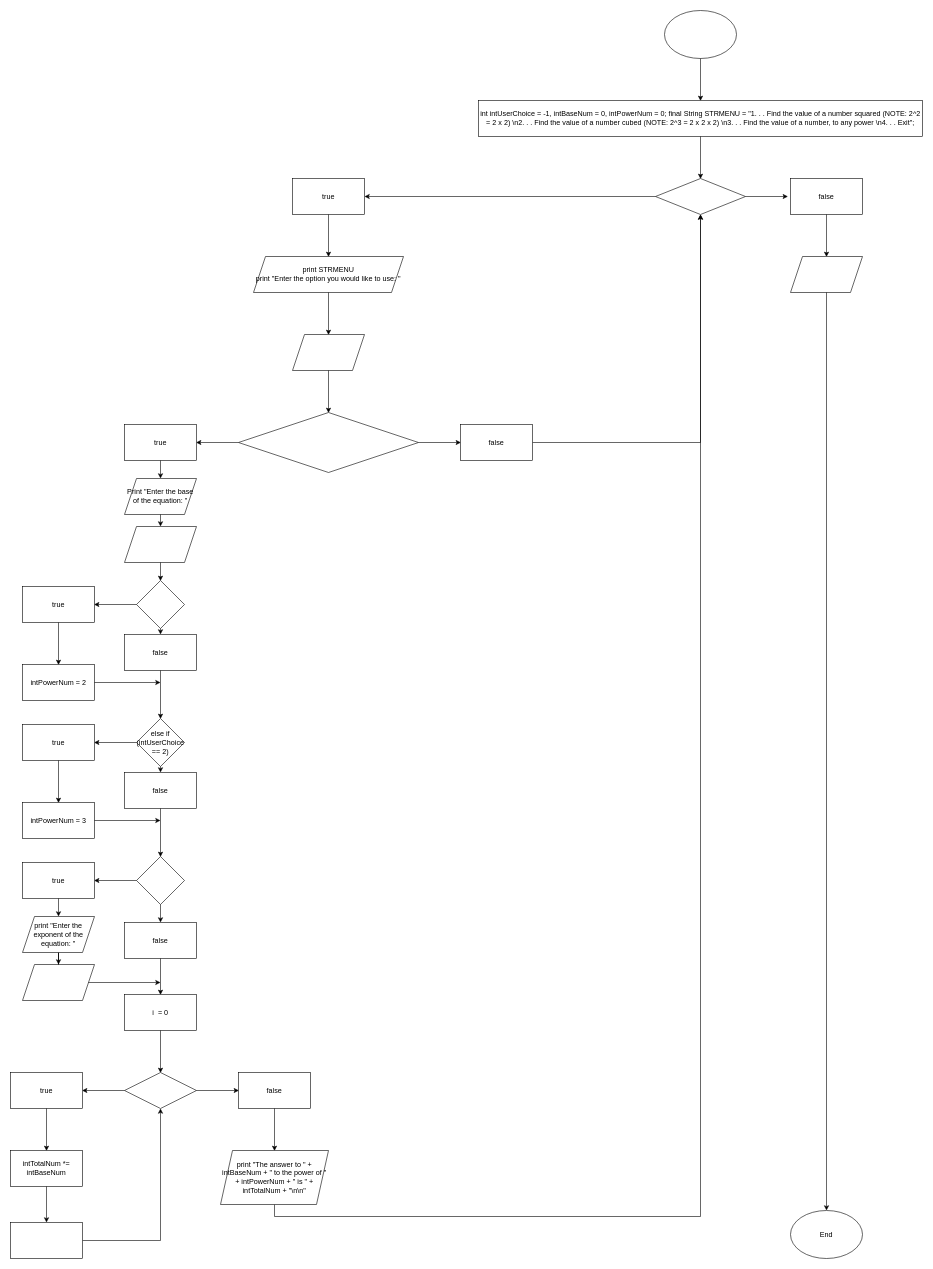
Image size: 933x1269. Some labels were removed from this diagram. Here are the shapes that lost their labels. From the top down, the centre of each, then its label:
(x=700, y=34): Start
(x=700, y=196): intUserChoice != 4
(x=826, y=274): print "Thank you for using this program, goodbye."
(x=328, y=352): intUserChoice = the user's input
(x=328, y=442): if (intUserChoice == 1 || intUserChoice == 2 || intUserChoice == 3)
(x=160, y=544): intBaseNum = the user's input
(x=160, y=604): if (intUserChoice == 1)
(x=160, y=880): else if (intUserChoice == 3)
(x=58, y=982): intPowerNum = the user's input
(x=160, y=1090): i < intPowerNum
(x=46, y=1240): i++
